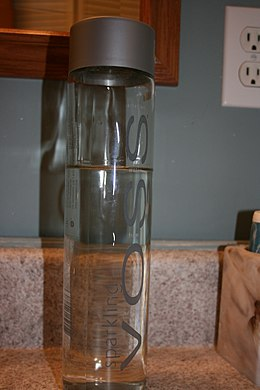glass of water: (71, 24, 146, 390)
